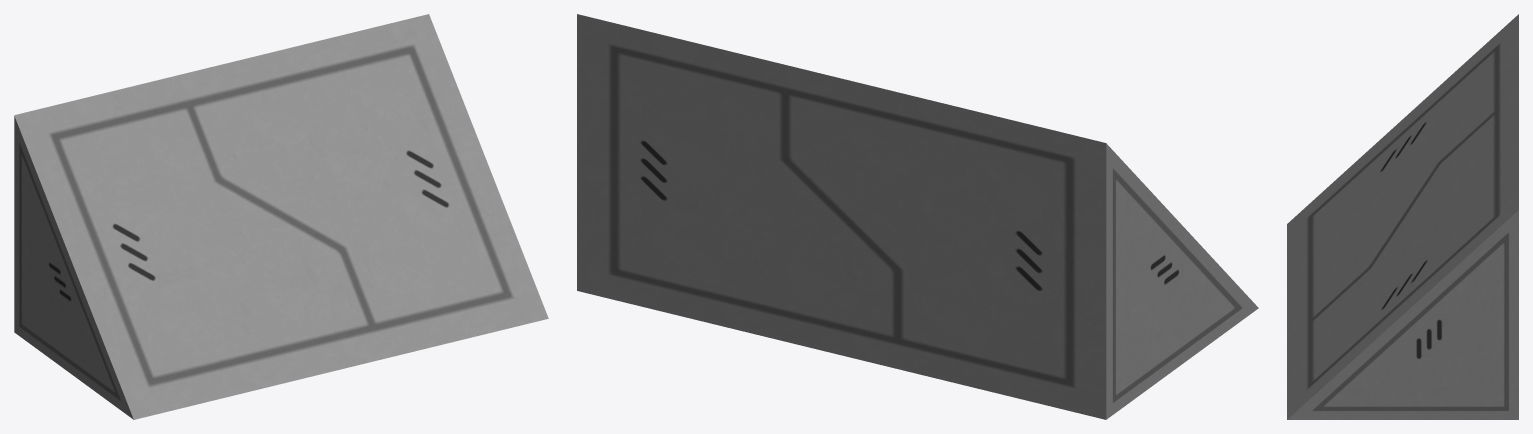
The model's file is LargeHalfSlopeArmorBlock.glb.
3 views of the same model, side by side, from view 1: azimuth 30°, elevation 25°; view 2: azimuth 150°, elevation 25°; view 3: azimuth 270°, elevation 25° (orthographic). The views are drawn at different scales.
Parts seen in each view (by area): view 1: LargeHalfSlopeArmorBlock_part1, LargeHalfSlopeArmorBlock_part2; view 2: LargeHalfSlopeArmorBlock_part1, LargeHalfSlopeArmorBlock_part2; view 3: LargeHalfSlopeArmorBlock_part1, LargeHalfSlopeArmorBlock_part2.
Part boxes in pixels (x1,y1,x2,y2): LargeHalfSlopeArmorBlock_part1: (14,14,548,419); LargeHalfSlopeArmorBlock_part2: (14,116,133,419); LargeHalfSlopeArmorBlock_part1: (577,14,1106,419); LargeHalfSlopeArmorBlock_part2: (1106,143,1258,419); LargeHalfSlopeArmorBlock_part1: (1287,14,1518,419); LargeHalfSlopeArmorBlock_part2: (1287,210,1518,419).
Size of the model in its own units: 2.5 by 1.25 by 1.25.
Materials: 2 (2 with a texture image).
